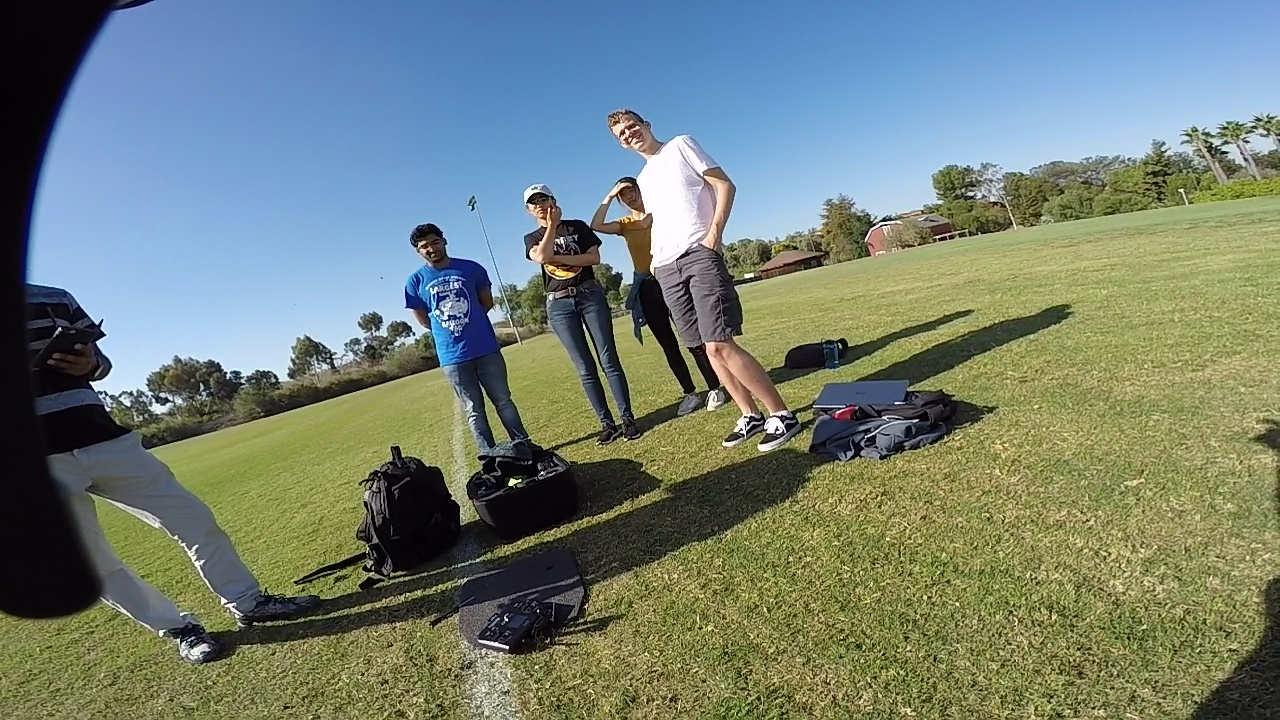person: (13, 272, 306, 657), (589, 94, 798, 444), (391, 209, 546, 475), (513, 181, 642, 439)
